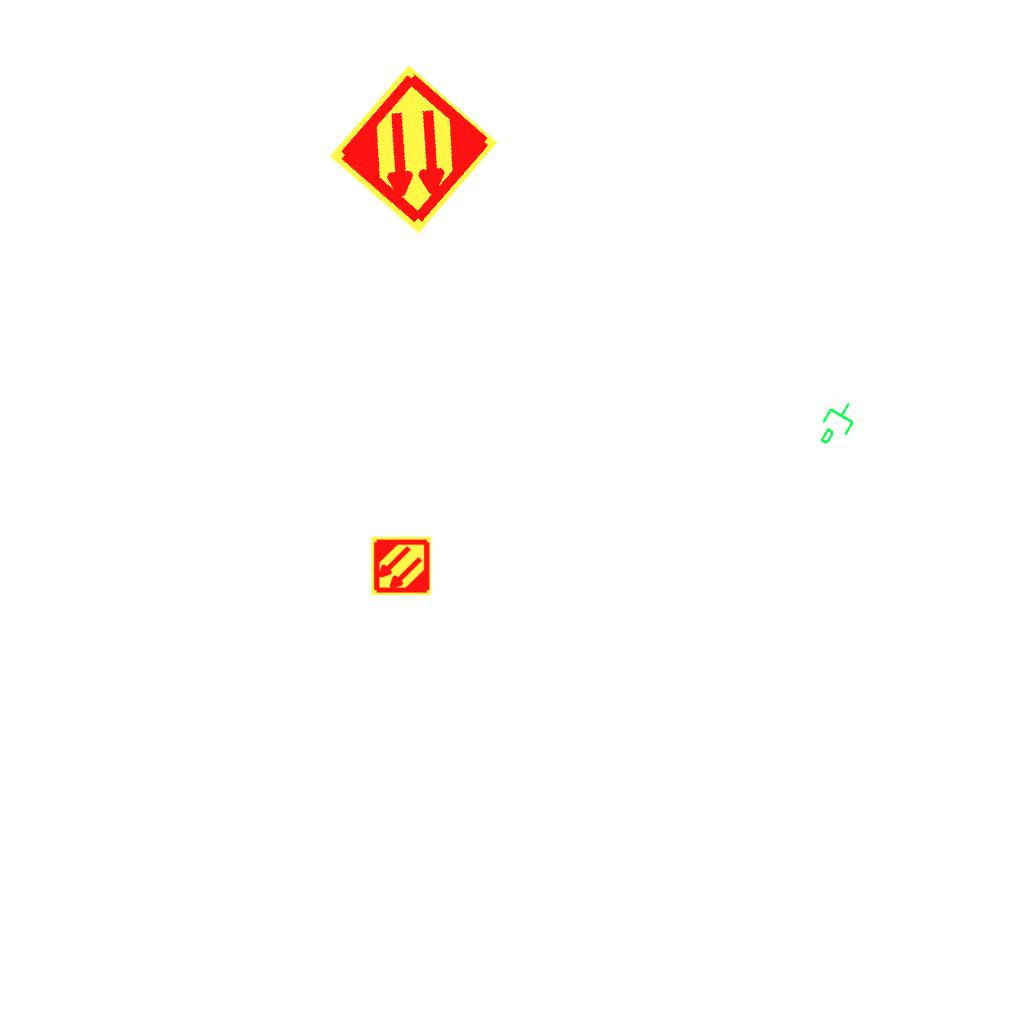ASR_Ansaugrauchmelder: (325, 61, 502, 238), (370, 535, 432, 597)
Datenanschluss_einfach: (810, 393, 866, 455)
